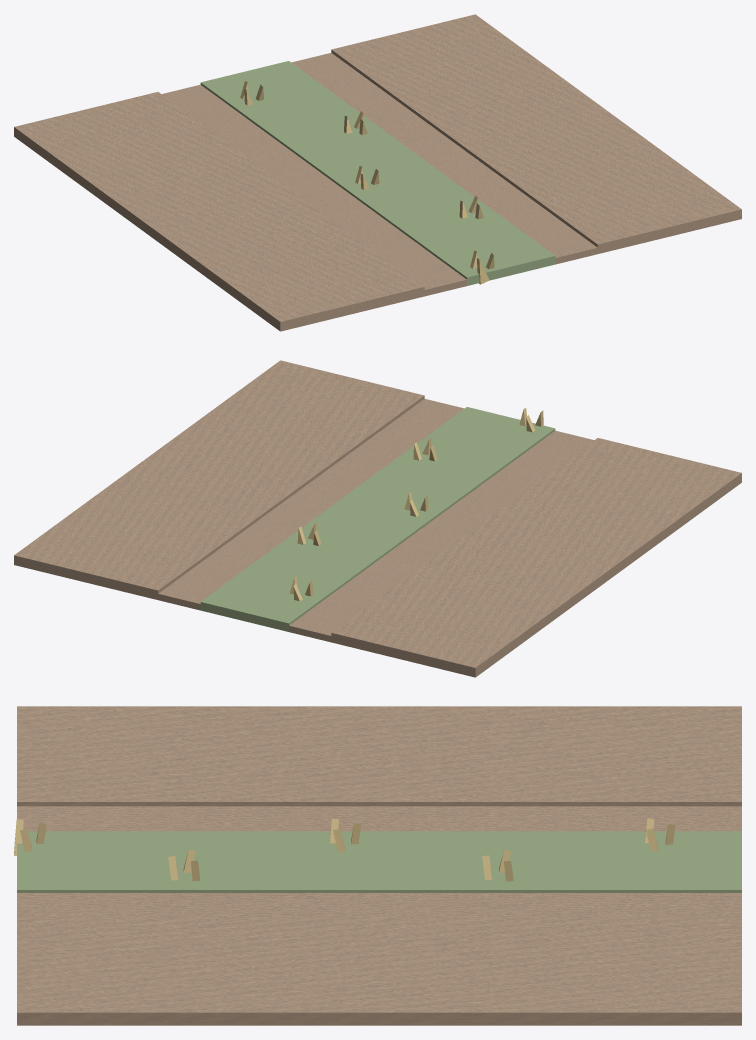
Rendered from safari-camp-and-bush-lodge-track-module-with-ruts-4e20eaea__37706.glb.
3 renders of one model, top to bottom at view 1: azimuth 30°, elevation 25°; view 2: azimuth 150°, elevation 25°; view 3: azimuth 270°, elevation 25°, orthographic. The views are drawn at different scales.
Visible parts, largest first — view 1: track-module-with-ruts-earth, track-module-with-ruts-scrub, track-module-with-ruts-thatch; view 2: track-module-with-ruts-earth, track-module-with-ruts-scrub, track-module-with-ruts-thatch; view 3: track-module-with-ruts-earth, track-module-with-ruts-scrub, track-module-with-ruts-thatch.
Part boxes in pixels (x1,y1,x2,y2): track-module-with-ruts-earth: [14, 14, 741, 331]; track-module-with-ruts-scrub: [200, 61, 555, 285]; track-module-with-ruts-thatch: [240, 81, 494, 284]; track-module-with-ruts-earth: [14, 360, 741, 677]; track-module-with-ruts-scrub: [200, 407, 555, 631]; track-module-with-ruts-thatch: [289, 408, 543, 601]; track-module-with-ruts-earth: [17, 706, 741, 1025]; track-module-with-ruts-scrub: [17, 831, 741, 892]; track-module-with-ruts-thatch: [14, 818, 675, 881].
Bounding box in the file's own units: 6 × 0.3141 × 6.02.
Materials: 3 (1 with a texture image).
